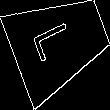L_NE: (34, 19, 85, 67)
